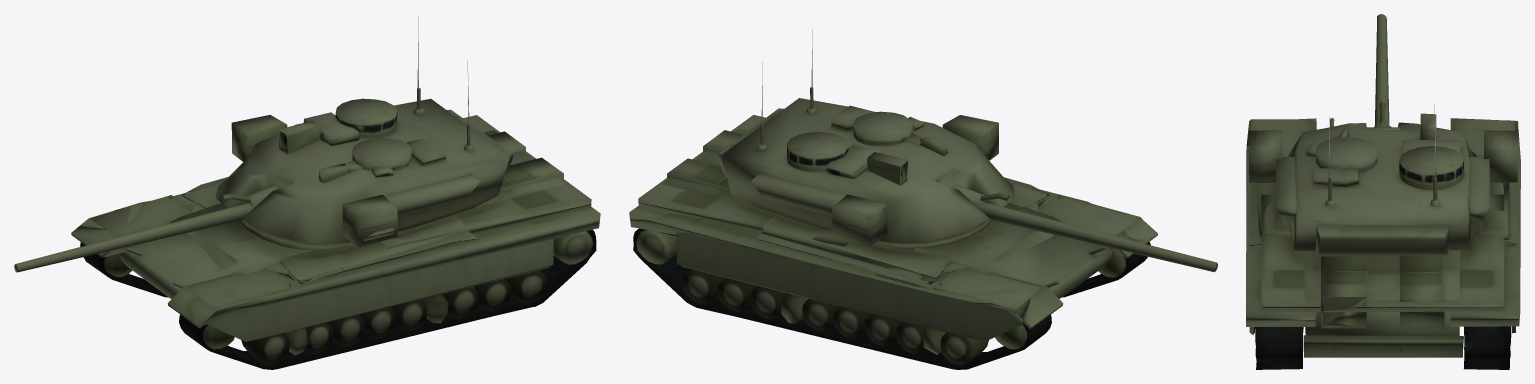
File: us-abrams.glb
3 views of the same model, side by side, from view 1: azimuth 30°, elevation 25°; view 2: azimuth 150°, elevation 25°; view 3: azimuth 270°, elevation 25° (orthographic). The views are drawn at different scales.
Visible parts, largest first — view 1: geometry_0; view 2: geometry_0; view 3: geometry_0.
Boxes of the visible parts, bbox=[...] form: geometry_0: bbox=[14, 16, 600, 369]; geometry_0: bbox=[629, 29, 1217, 369]; geometry_0: bbox=[1246, 14, 1520, 369].
Bounding box in the file's own units: 1 × 0.4403 × 0.4336.
1 material, 1 textured.
